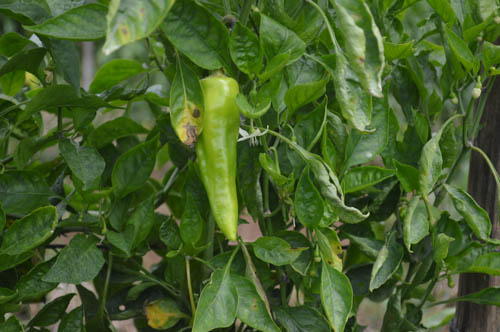ChiliPepper: (196, 78, 244, 245)
